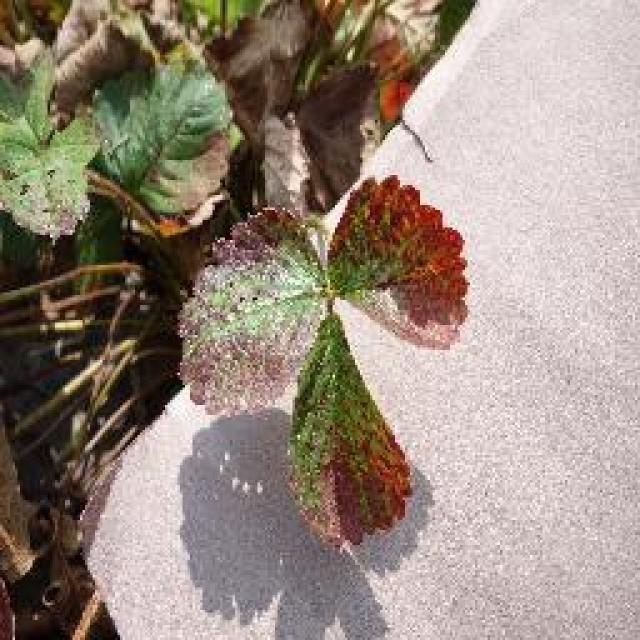Strawberry leaf scorch: (165, 178, 480, 545)
